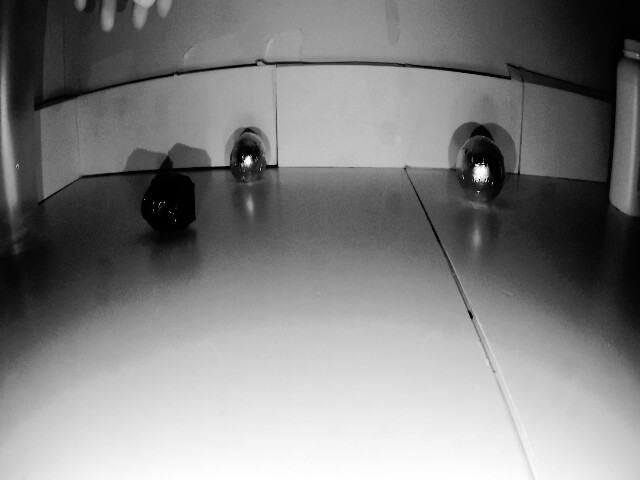black: (136, 167, 202, 235)
silver: (460, 130, 505, 200), (228, 132, 270, 182)
